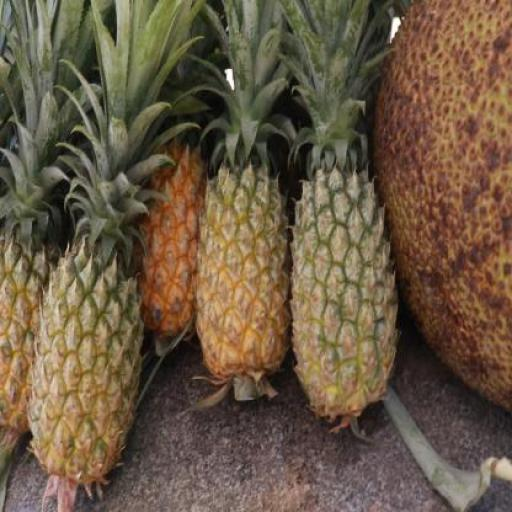------------------------------: (29, 246, 136, 470)
Pineapple - v8 v1: (194, 167, 290, 388), (136, 138, 211, 343), (0, 237, 54, 440)
